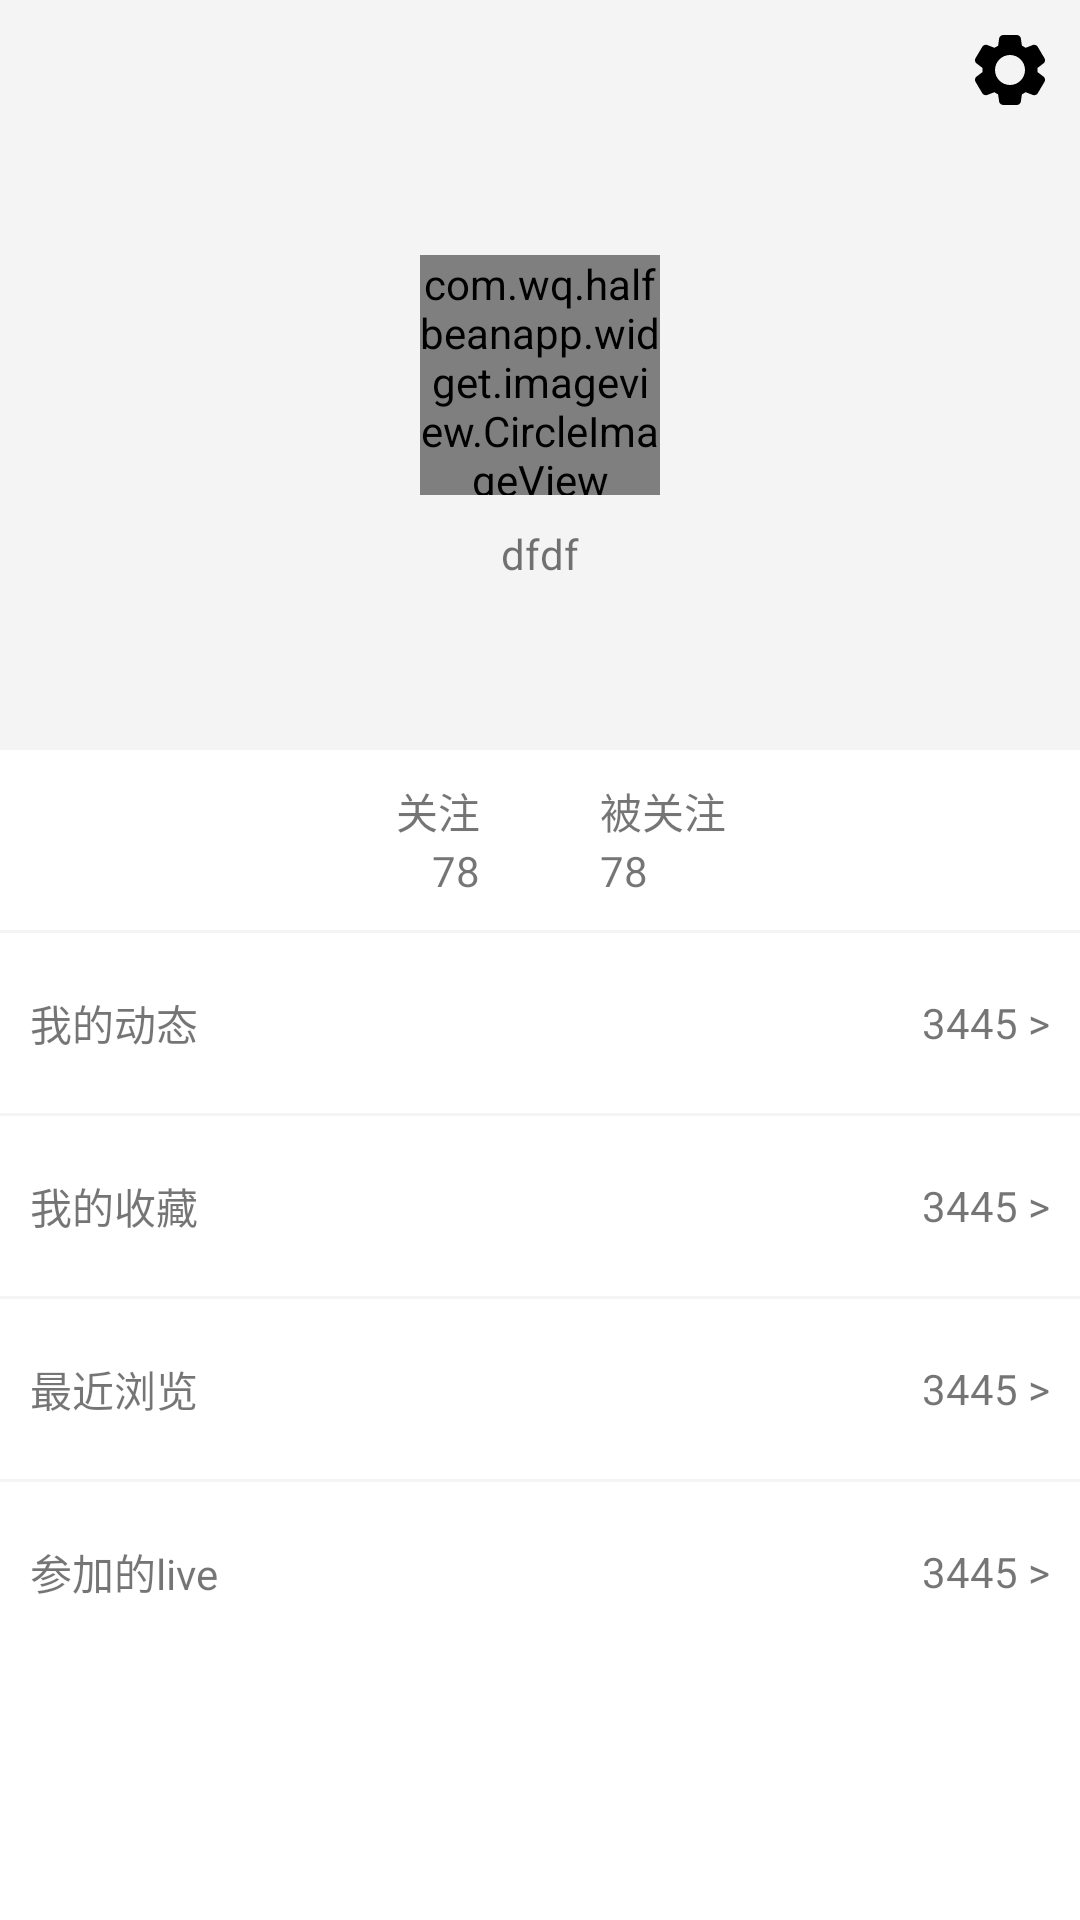

Icons on this 1080px×1920px Android screen, each with its box as box(x1, y1, x2, y2):
set: box(975, 35, 1045, 105)
